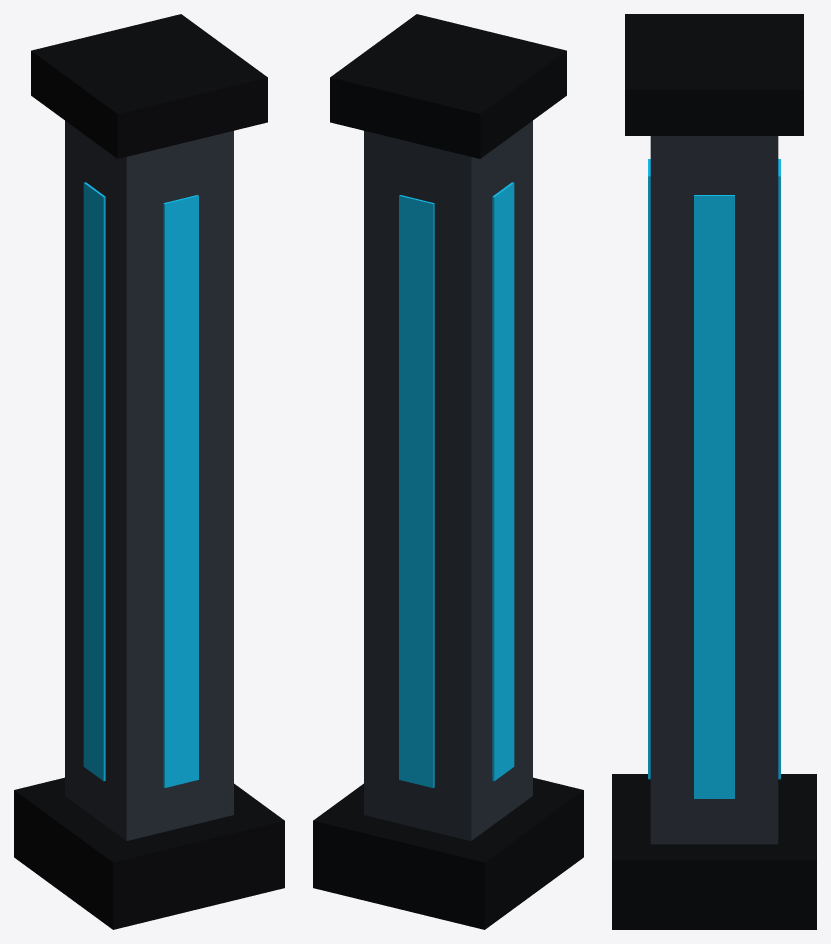
File: light_pillar.obj
The picture shows the model from 3 angles, left to right: view 1: azimuth 30°, elevation 25°; view 2: azimuth 150°, elevation 25°; view 3: azimuth 270°, elevation 25°; orthographic projection. The views are drawn at different scales.
Visible parts, largest first — view 1: light_pillar; view 2: light_pillar; view 3: light_pillar.
Part boxes in pixels (left/top/right/bottom): light_pillar: left=14, top=14, right=284, bottom=929; light_pillar: left=313, top=14, right=583, bottom=929; light_pillar: left=612, top=14, right=816, bottom=929.
Bounding box in the file's own units: 0.4 × 1.8 × 0.4.
